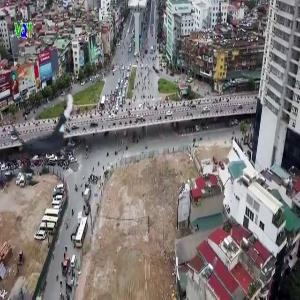drone: (5, 91, 90, 176)
